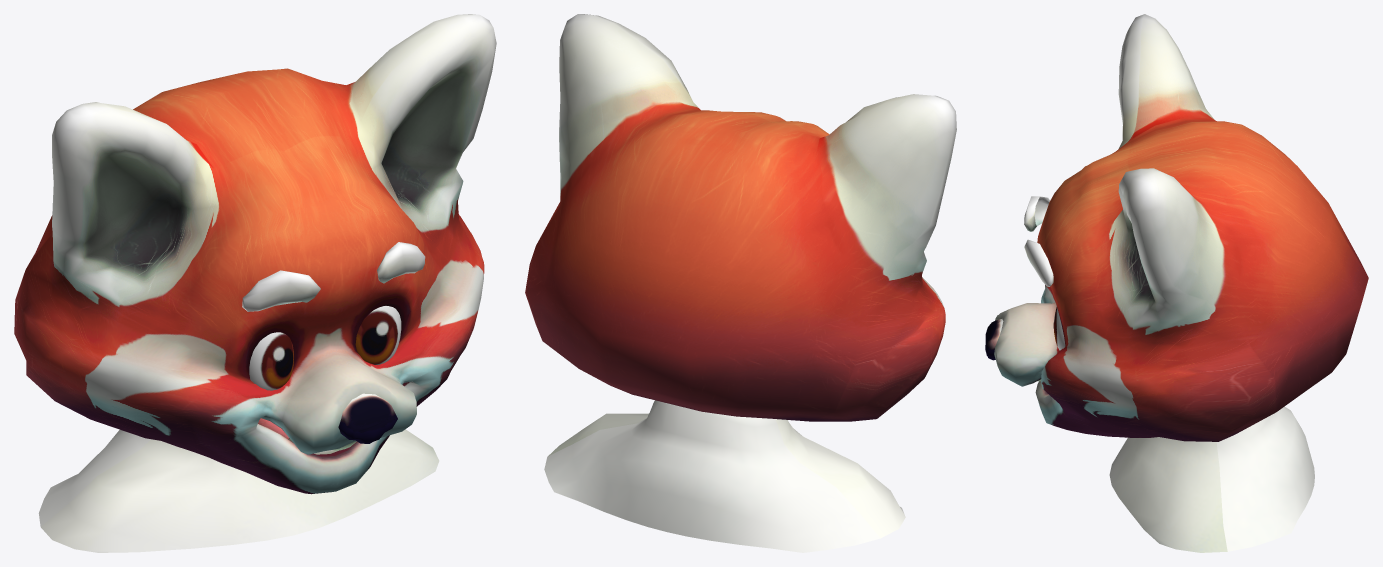
The model's file is panda.glb.
3 renders of one model, left to right at view 1: azimuth 30°, elevation 25°; view 2: azimuth 150°, elevation 25°; view 3: azimuth 270°, elevation 25°, orthographic. The views are drawn at different scales.
Visible parts, largest first — view 1: Panda.001, Body, EyeR, EyeL; view 2: Panda.001, Body; view 3: Panda.001, Body.
Part boxes in pixels (x1,y1,x2,y2): Panda.001: [14, 14, 496, 494]; Body: [38, 429, 439, 552]; EyeR: [355, 306, 401, 364]; EyeL: [249, 332, 293, 390]; Panda.001: [525, 14, 956, 421]; Body: [544, 400, 905, 552]; Panda.001: [985, 14, 1368, 441]; Body: [1109, 406, 1314, 552].
Size of the model in its own units: 2.37 by 2.37 by 2.17.
1 material, 1 textured.
